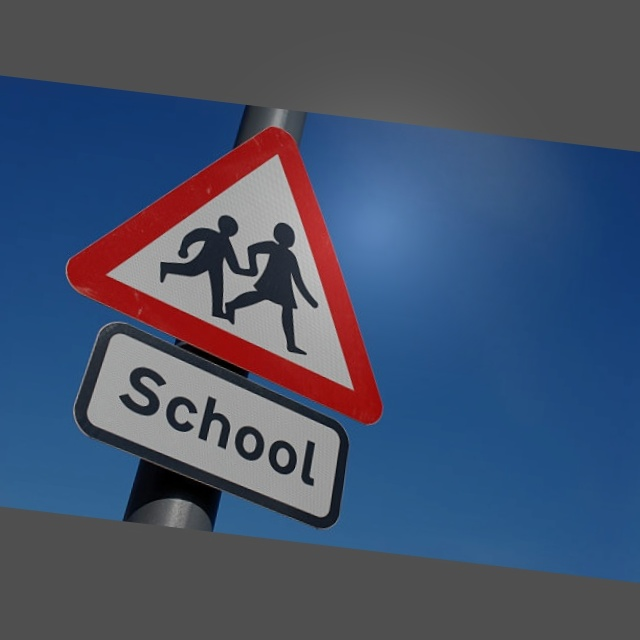School_Ahead: (60, 93, 432, 415)
